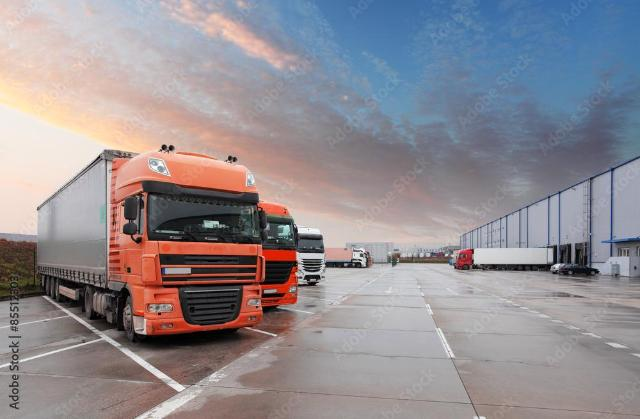car: (550, 263, 597, 278)
truck: (20, 149, 265, 353), (251, 201, 300, 313), (456, 248, 556, 272), (292, 223, 325, 285), (322, 247, 369, 271)
